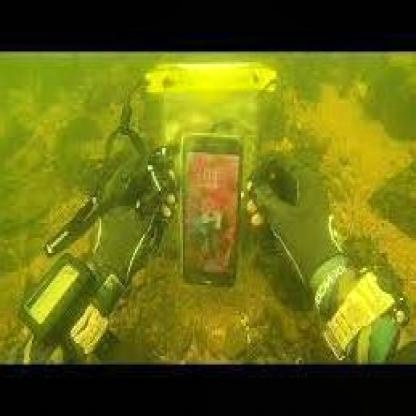cellphone: (178, 131, 242, 289)
